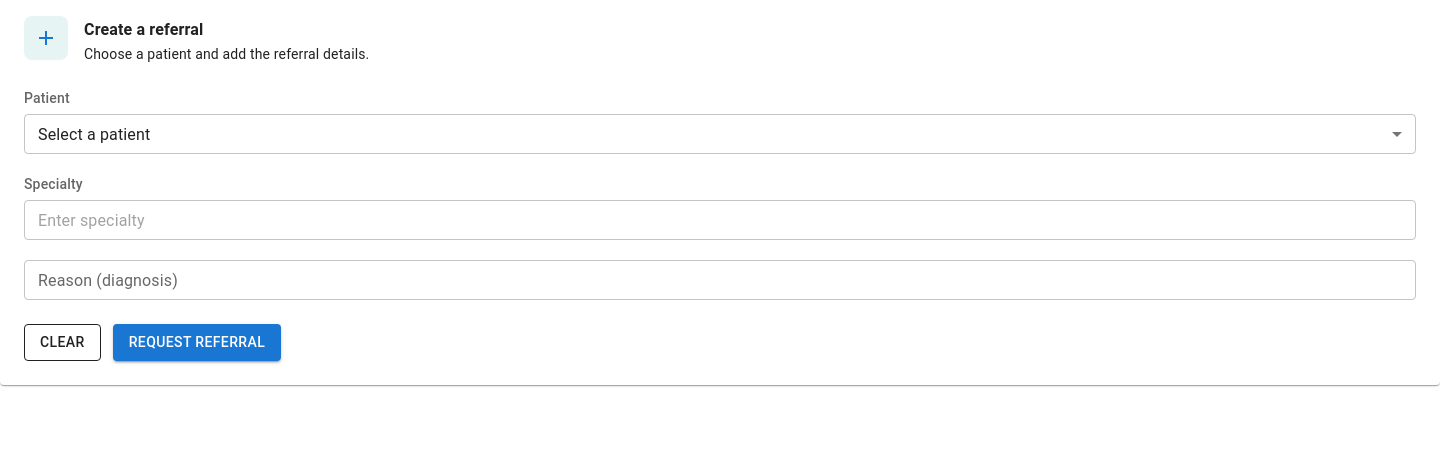
Test case: CreateReferralForm › blocks submit when required fields are missing
The image size is (1440, 475).
Nothing selected/entered → Zod stops the submit and the API is never called.
Click the button "Request referral" at [197, 342], box [113, 324, 281, 360]
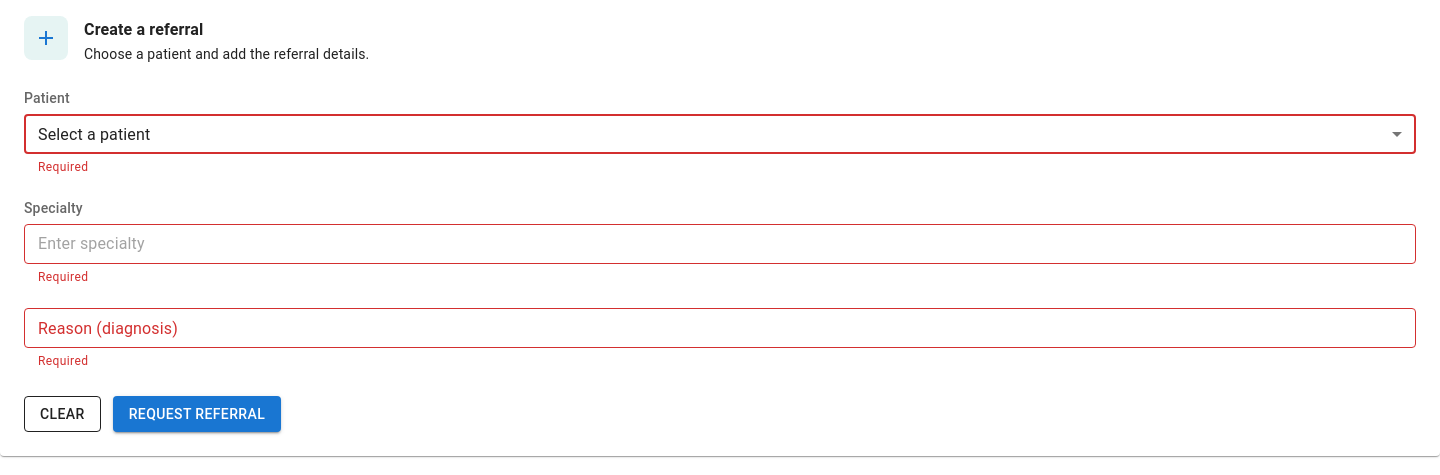
Expected: the 1st text "Required" is shown, [38, 160, 88, 174]
